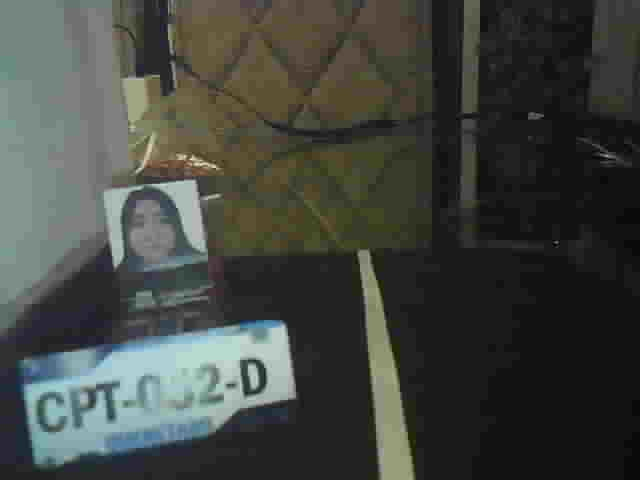PLACA: (14, 316, 301, 474)
ROSTRO: (112, 189, 205, 268)
